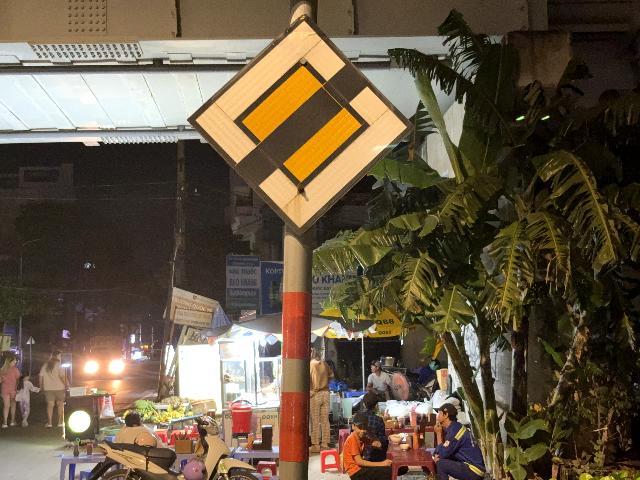het-duong-uu-tien: (188, 14, 415, 238)
